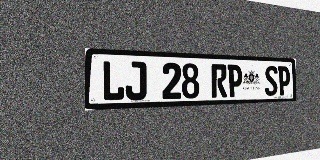2: (162, 62, 181, 99)
8: (182, 63, 199, 99)
J: (125, 61, 146, 100)
L: (102, 60, 124, 101)
P: (227, 64, 242, 97), (278, 66, 290, 96)
R: (211, 64, 227, 98)
S: (265, 66, 278, 96)
